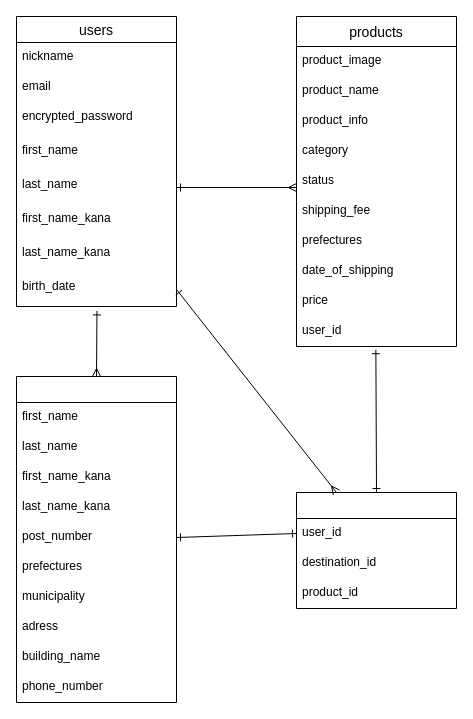
Some shapes in this 473 by 719 pixel diagram are drawn without their labels. Here are the shapes that lost their labels. From the top down, the box of each, then its label:
(16, 376, 176, 702): destinations
(296, 492, 456, 608): purchase_records
